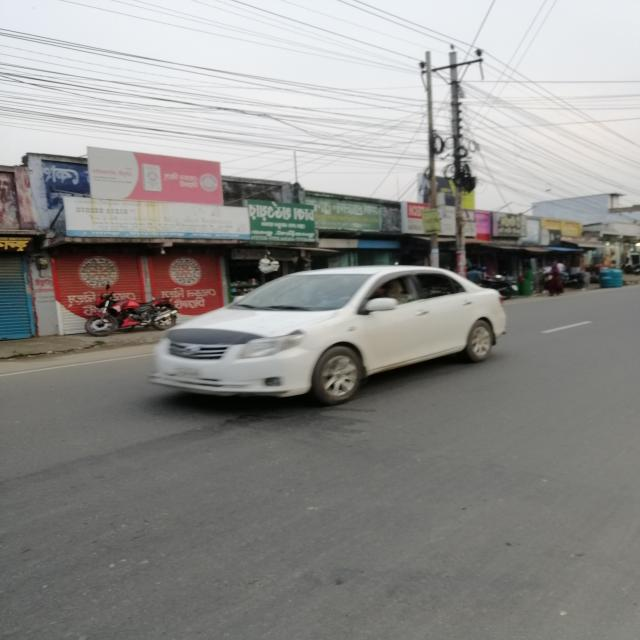Car: (144, 264, 524, 411)
Motorbike: (81, 284, 184, 339)
